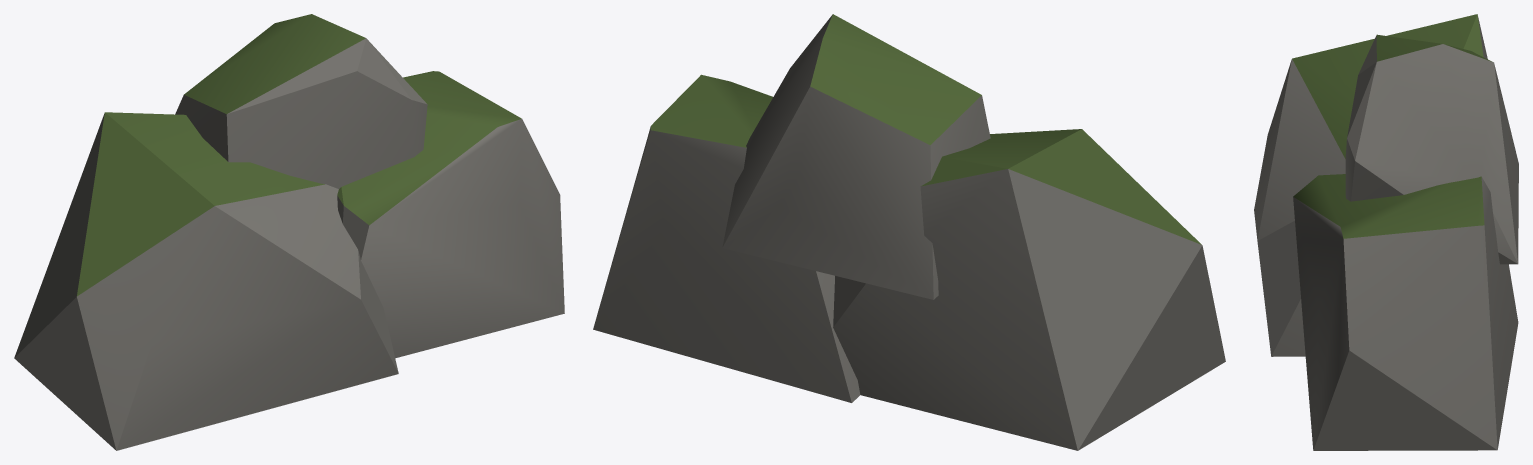
Rendered from RockMassWide.fbx.
3 renders of one model, left to right at view 1: azimuth 30°, elevation 25°; view 2: azimuth 150°, elevation 25°; view 3: azimuth 270°, elevation 25°, orthographic. The views are drawn at different scales.
Visible parts, largest first — view 1: RockMassWide; view 2: RockMassWide; view 3: RockMassWide.
Boxes of the visible parts, bbox=[...] form: RockMassWide: bbox=[14, 14, 564, 450]; RockMassWide: bbox=[593, 14, 1225, 450]; RockMassWide: bbox=[1254, 14, 1518, 450].
Size of the model in its own units: 2.7 by 1.56 by 1.2.
